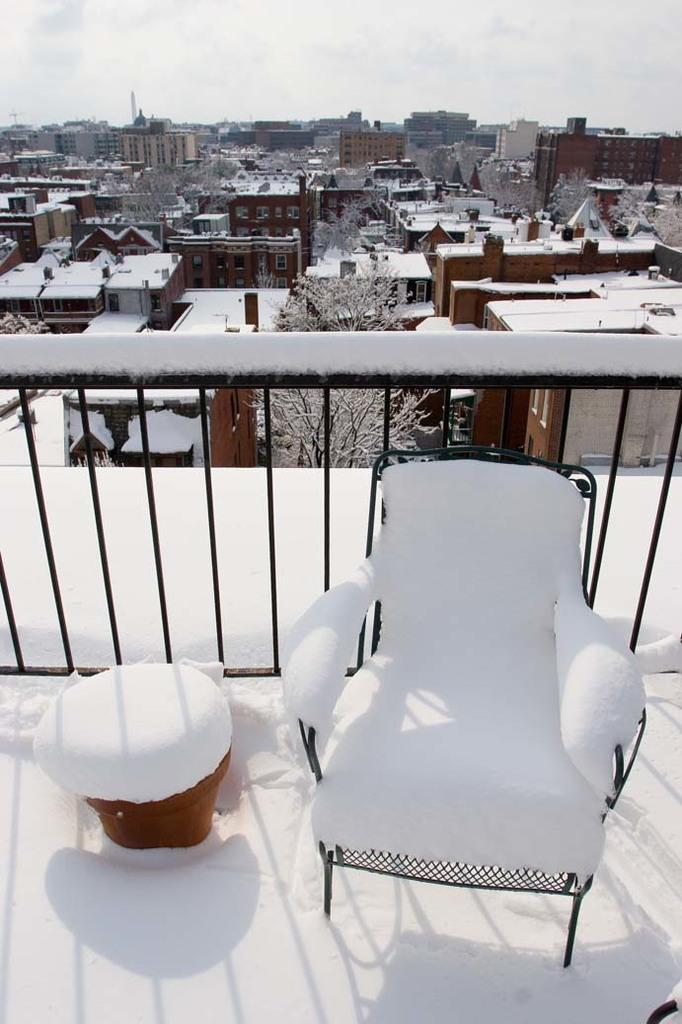Chair: (266, 483, 630, 1024)
